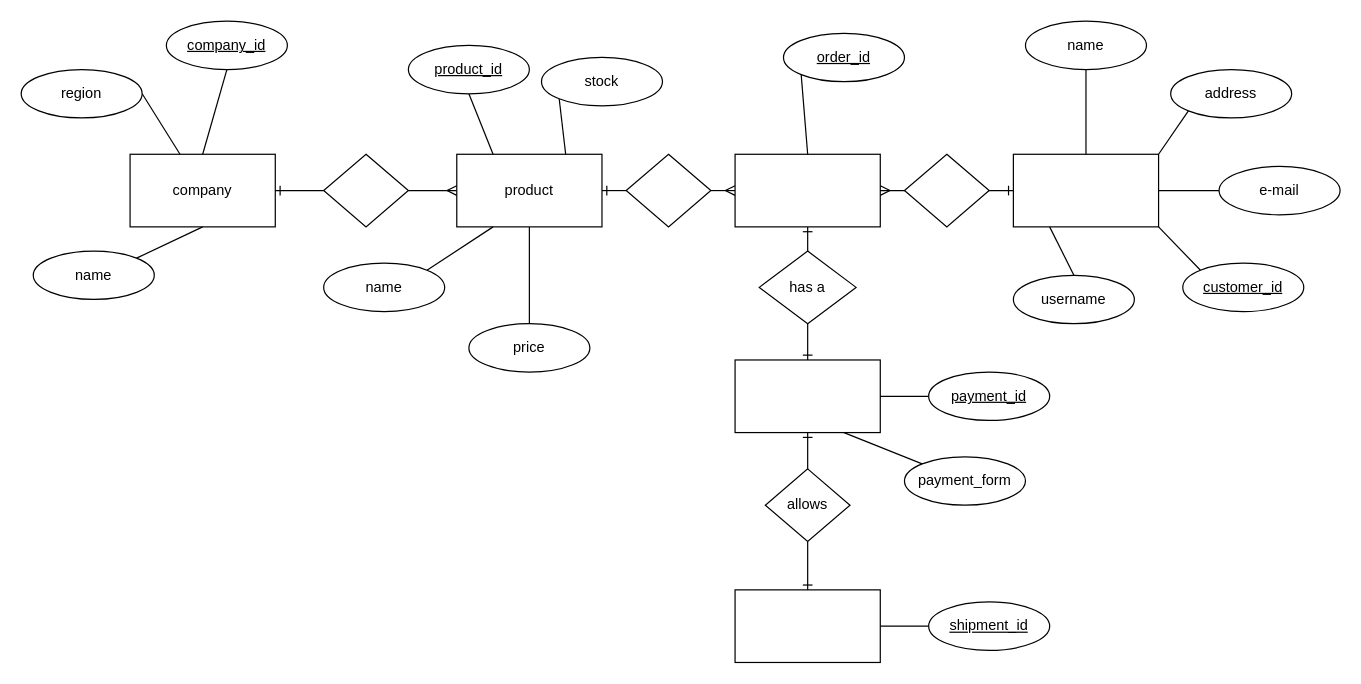
Image size: 1361x684. Some labels were removed from this diagram. The shapes that lost their labels are listed below. From the top down, each one's centre as x and y in pixels, then its label:
At (365,190): "makes a".
At (668,190): "gets into".
At (807,190): "orders".
At (946,190): "made by".
At (1085,190): "customer".
At (807,396): "payment".
At (807,625): "shipment".
